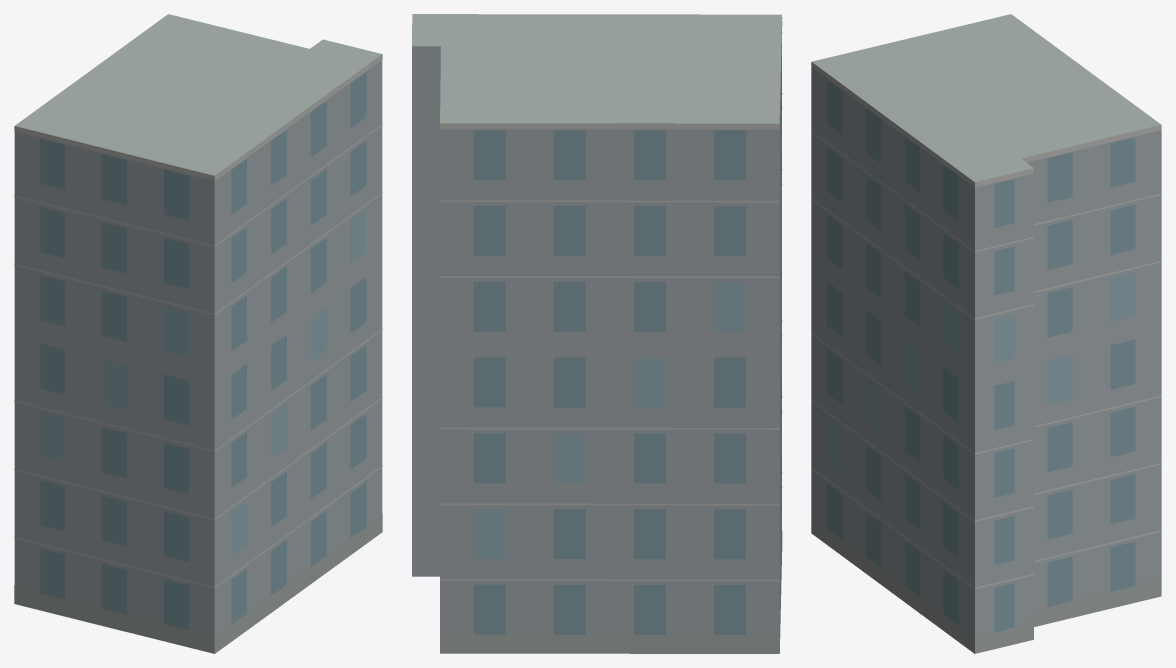
Rendered from survey-upis-32769787.glb.
3 views of the same model, side by side, from view 1: azimuth 30°, elevation 25°; view 2: azimuth 150°, elevation 25°; view 3: azimuth 270°, elevation 25° (orthographic). The views are drawn at different scales.
Parts seen in each view (by area): view 1: survey-upis-32769787.tmp; view 2: survey-upis-32769787.tmp; view 3: survey-upis-32769787.tmp.
Boxes of the visible parts, x1,y1,x2,y2 form: survey-upis-32769787.tmp: (14,14,382,653); survey-upis-32769787.tmp: (412,14,782,653); survey-upis-32769787.tmp: (811,14,1161,653).
Size of the model in its own units: 16.47 by 21.5 by 14.49.
